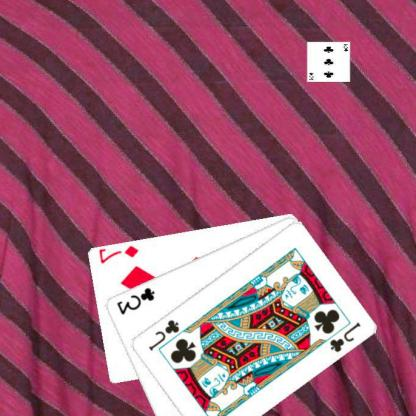3C: (115, 284, 158, 316)
7D: (98, 243, 141, 265)
JC: (147, 316, 182, 352), (328, 319, 363, 354)
